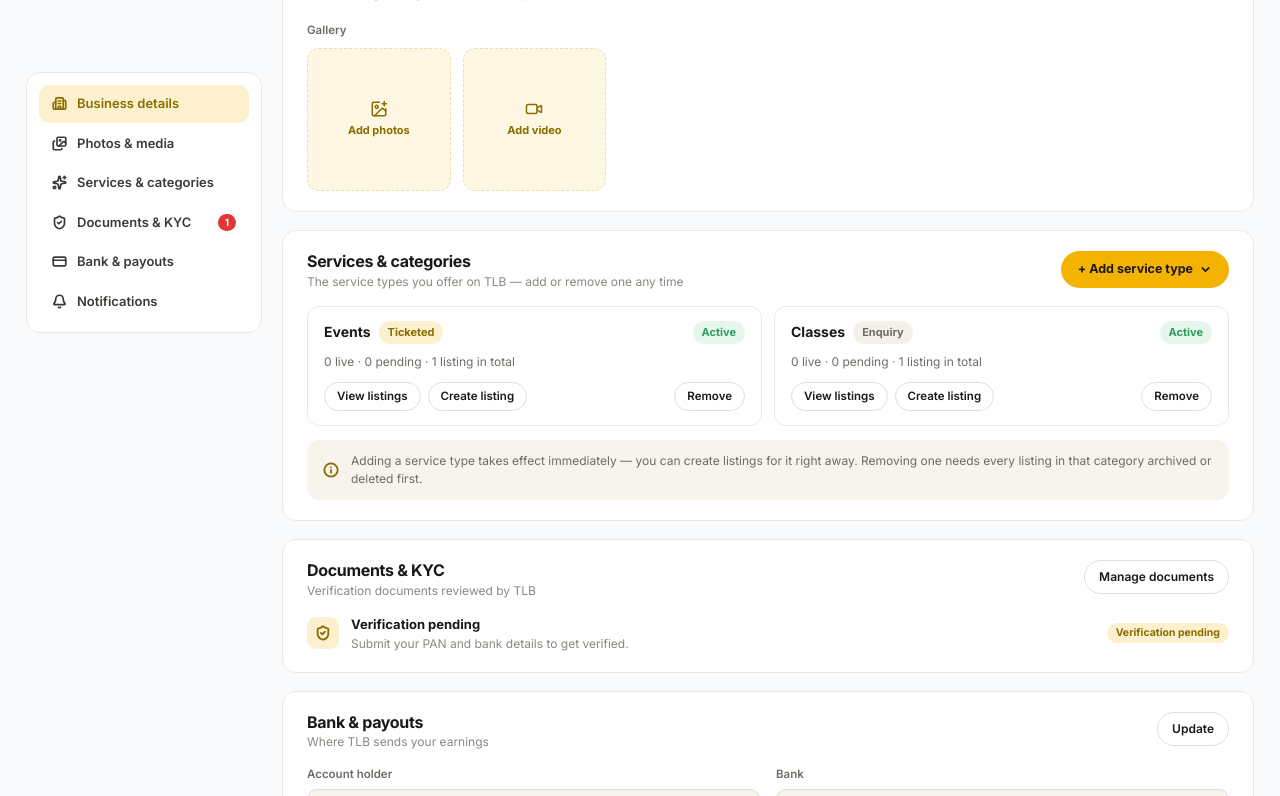
Services & categories — verticals self-service › removes a vertical after a two-step confirm
(page scrolled)
Click the button "Remove" below "Enquiry" at (1177, 397), box x1=1141 y1=382 x2=1212 y2=411
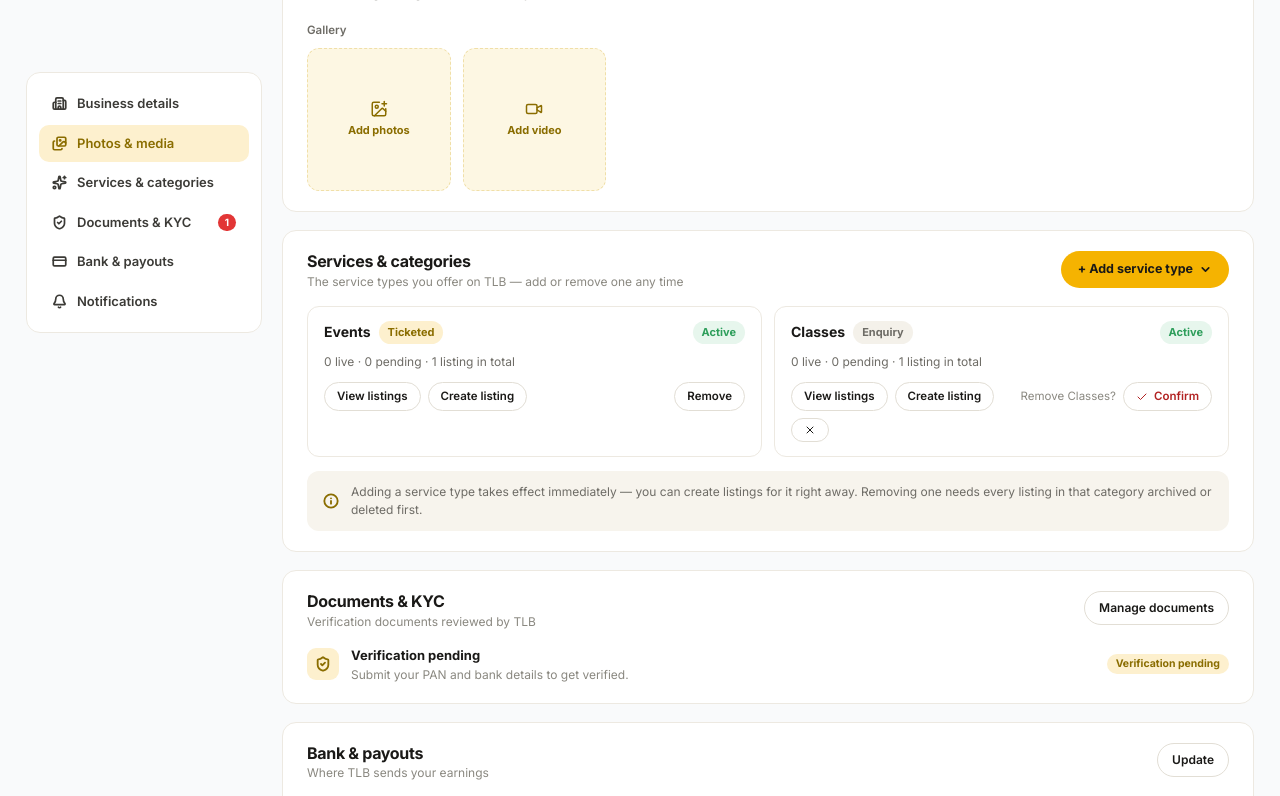
Click the button "Confirm" at (1167, 397), box x1=1123 y1=382 x2=1212 y2=411
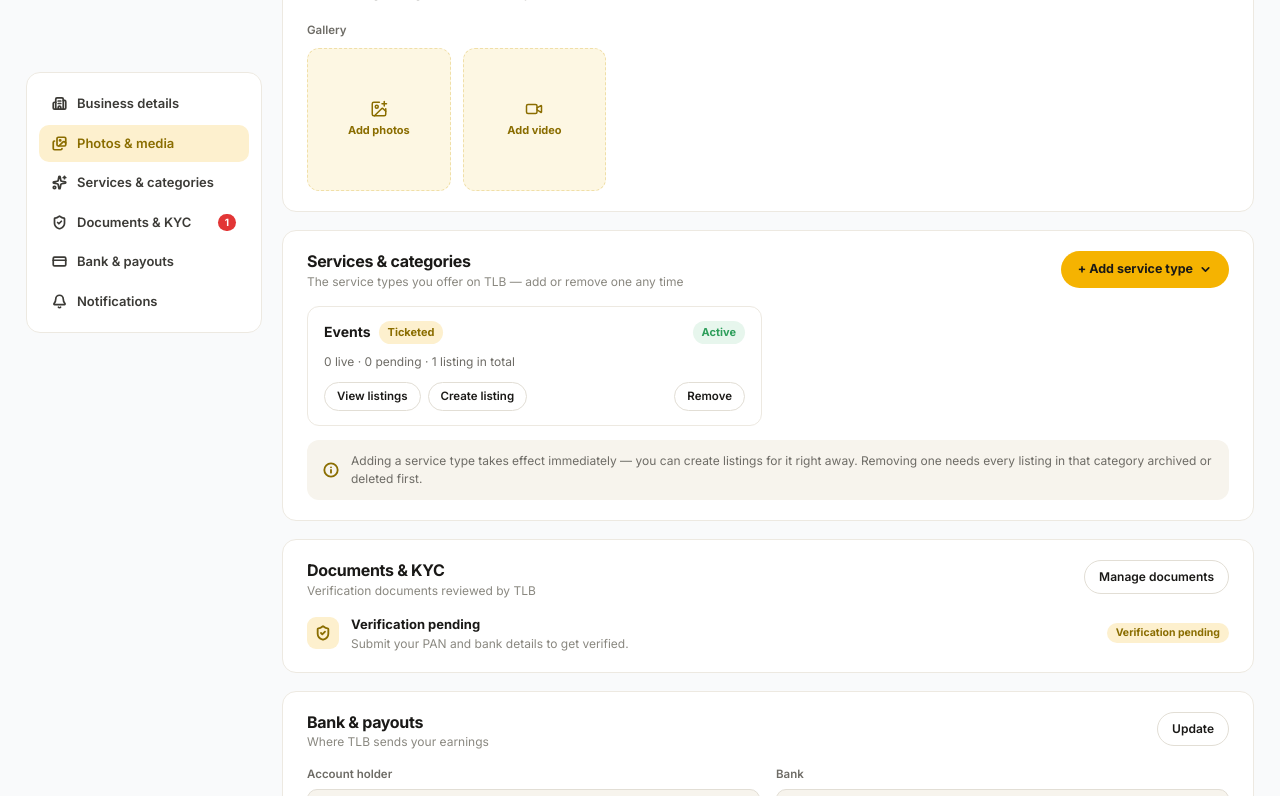
Now the text "Classes" is gone
